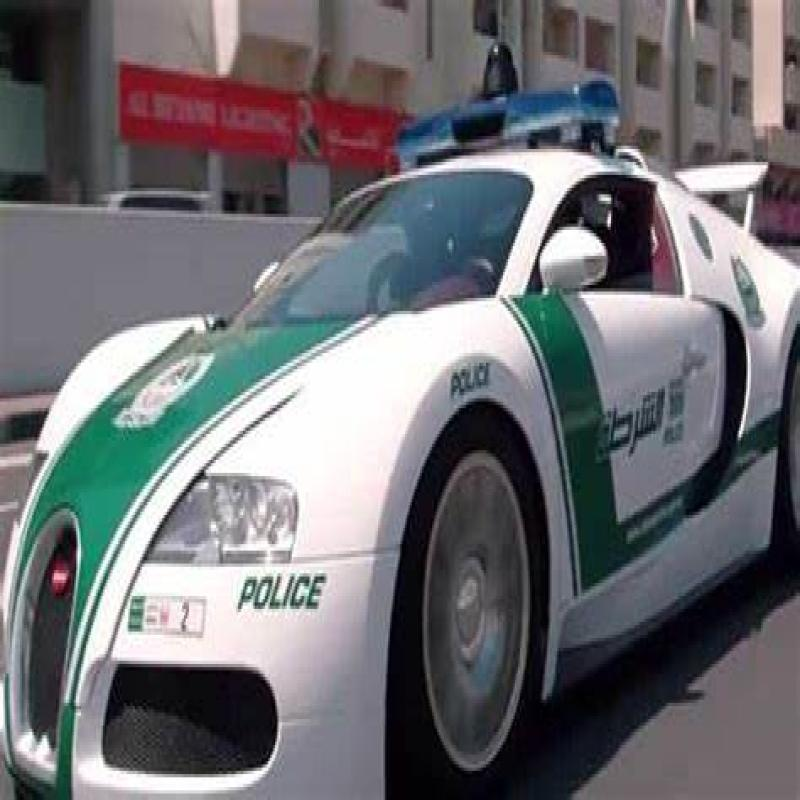AmbulanceSiren: (389, 33, 632, 180)
